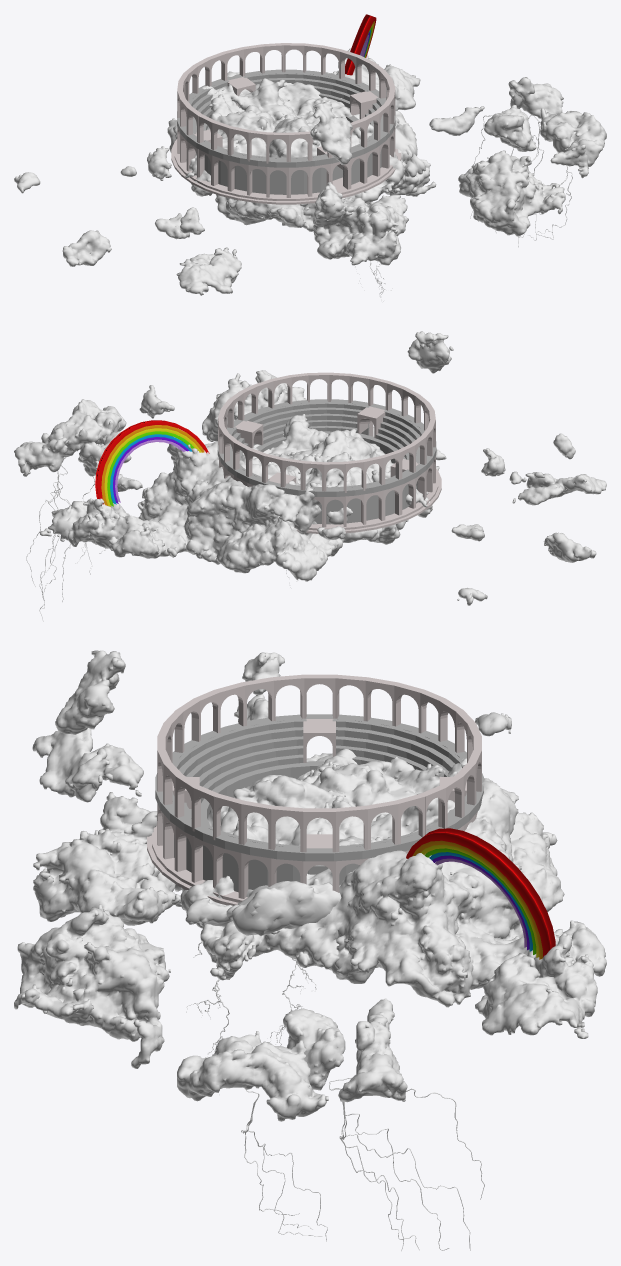
File: Cloudsdale.fbx
The picture shows the model from 3 angles, top to bottom: view 1: azimuth 30°, elevation 25°; view 2: azimuth 150°, elevation 25°; view 3: azimuth 270°, elevation 25°; orthographic projection. The views are drawn at different scales.
Parts seen in each view (by area): view 1: Cloud Polygon Blender 1, Coliseo, Cloud Polygon Blender 1.001, Cloud Polygon Blender 1.002, Cylinder; view 2: Cloud Polygon Blender 1, Coliseo, Cloud Polygon Blender 1.001, Cylinder, Lighting, Cylinder.001, Cylinder.002, Cylinder.003, Cylinder.004; view 3: Cloud Polygon Blender 1, Coliseo, Cloud Polygon Blender 1.002, Cloud Polygon Blender 1.001, Cylinder, Lighting.
Boxes of the visible parts, x1,y1,x2,y2 form: Cloud Polygon Blender 1: (14,48,606,295); Coliseo: (171,43,401,204); Cloud Polygon Blender 1.001: (310,100,352,164); Cloud Polygon Blender 1.002: (395,120,425,181); Cylinder: (345,14,376,75); Cloud Polygon Blender 1: (14,370,606,605); Coliseo: (217,372,441,533); Cloud Polygon Blender 1.001: (407,331,453,373); Cylinder: (95,420,209,504); Lighting: (26,457,70,621); Cylinder.001: (101,425,204,505); Cylinder.002: (104,428,201,506); Cylinder.003: (107,431,194,506); Cylinder.004: (110,434,191,504); Cloud Polygon Blender 1: (14,652,606,1121); Coliseo: (147,674,483,913); Cloud Polygon Blender 1.002: (185,881,341,935); Cloud Polygon Blender 1.001: (55,650,125,734); Cylinder: (406,828,555,957); Lighting: (329,1077,484,1251).
Bounding box in the file's own units: 5912 × 2806 × 3752.
